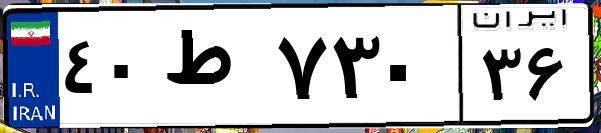0: (385, 28, 445, 110), (110, 28, 158, 98)
3: (330, 28, 385, 110), (475, 38, 525, 113)
4: (57, 26, 110, 100)
6: (525, 38, 570, 115)
7: (270, 28, 330, 110)
ط: (158, 20, 270, 120)
